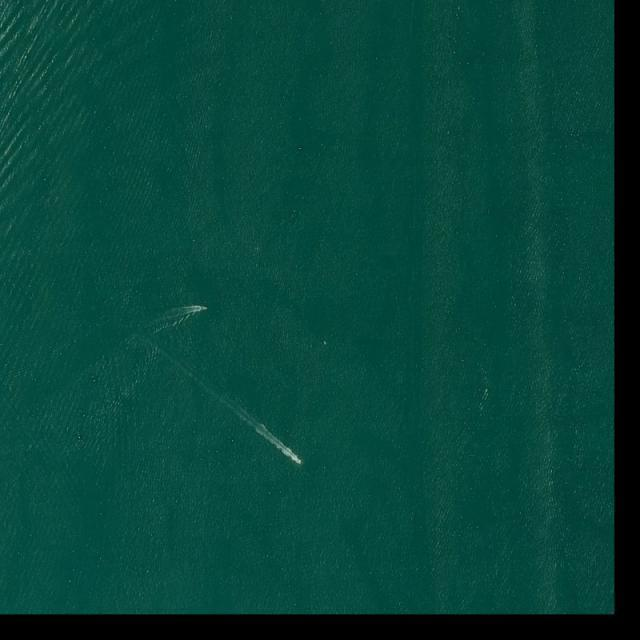ship: (297, 459, 302, 464), (202, 307, 208, 310)
